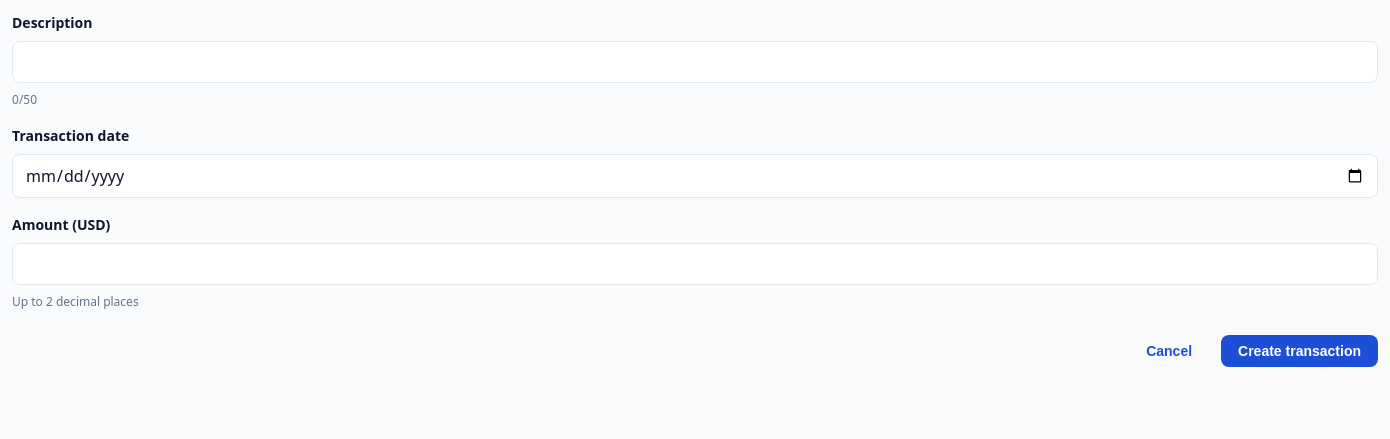
it: TransactionForm › maps server validation errors onto the matching fields
In the field labelled "Description": [695, 62] box [12, 41, 1378, 83], type "Office supplies"
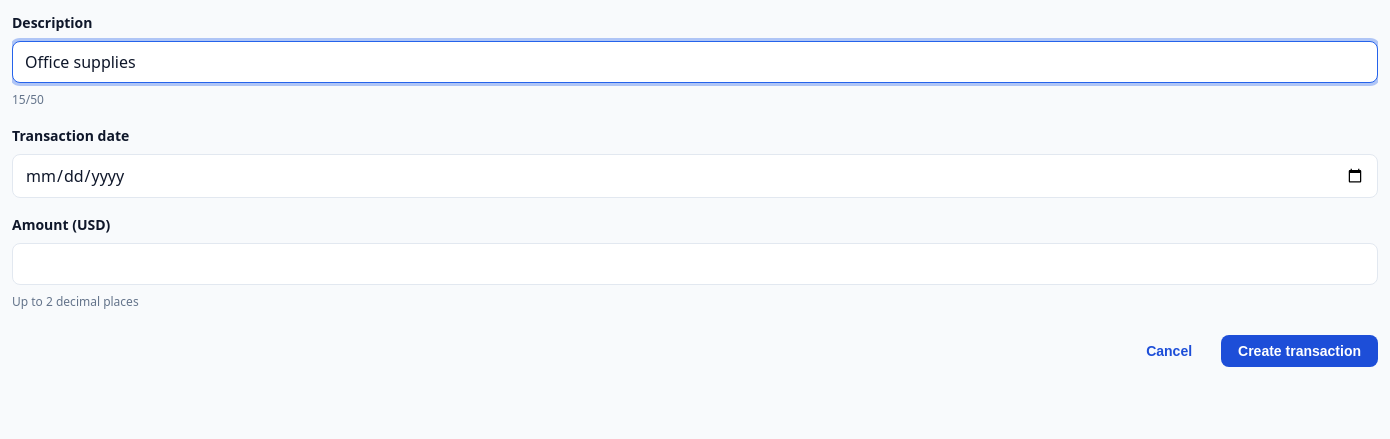
In the date field labelled "Transaction date": [695, 176] box [12, 154, 1378, 198], type "2026-05-10"
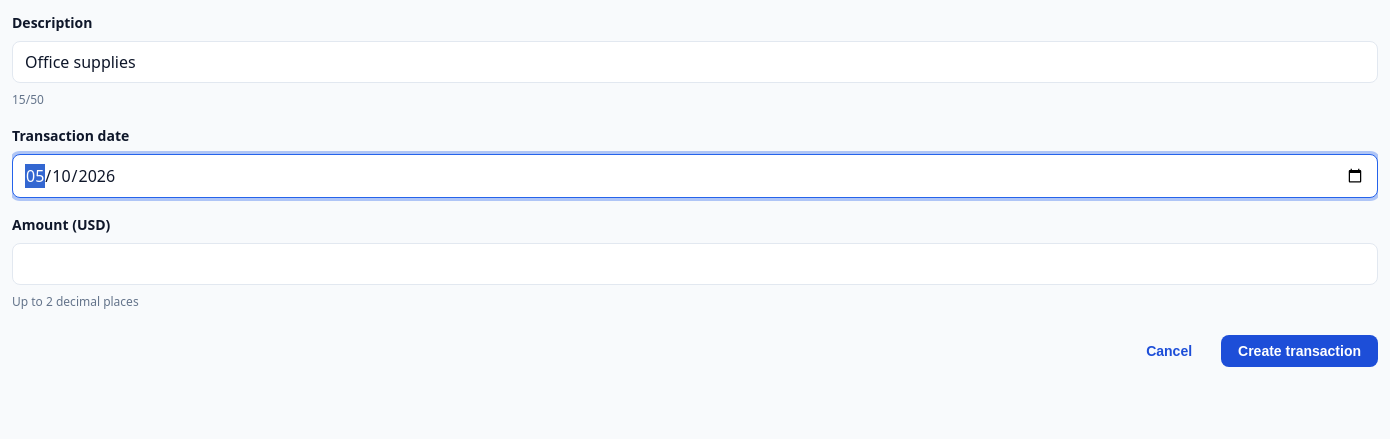
In the number field labelled "Amount (USD)": [695, 264] box [12, 243, 1378, 285], type "49.99"
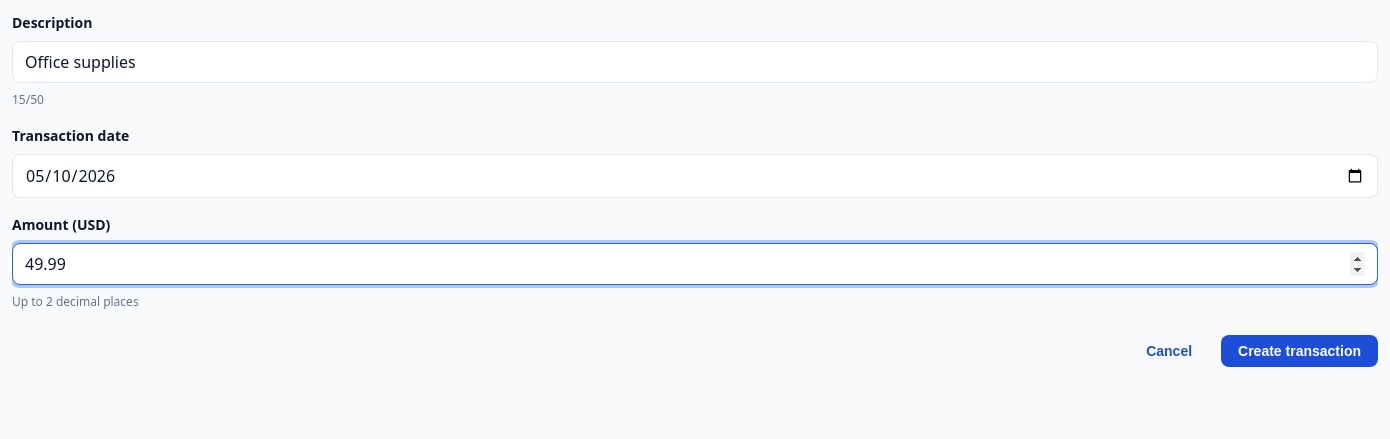
Click the button "Create transaction": [1300, 351] box [1221, 335, 1378, 367]
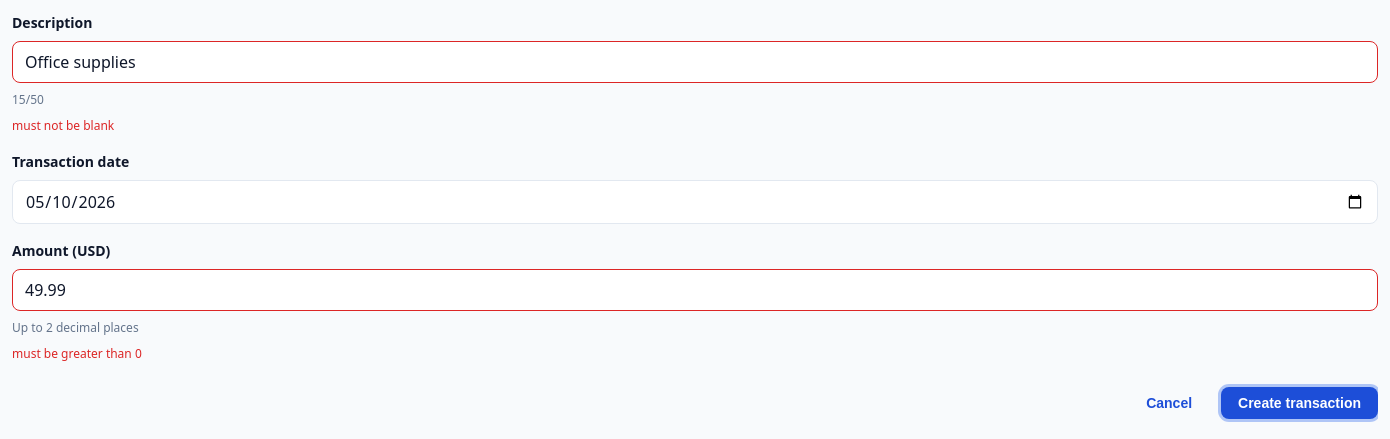
expect the text "must not be blank" is shown: met, box [12, 117, 114, 134]
expect the text "must be greater than 0" is shown: met, box [12, 345, 142, 362]
